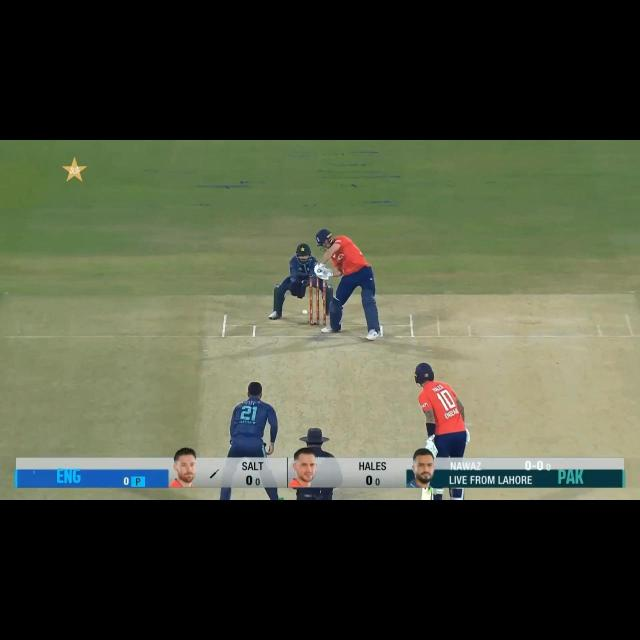bat: (420, 485, 432, 501), (322, 268, 333, 273)
